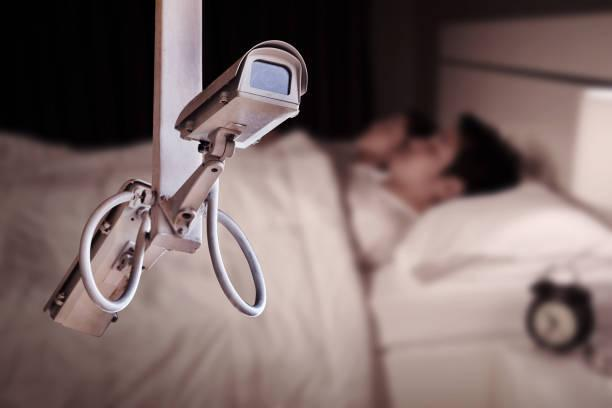camera: (162, 29, 343, 170)
